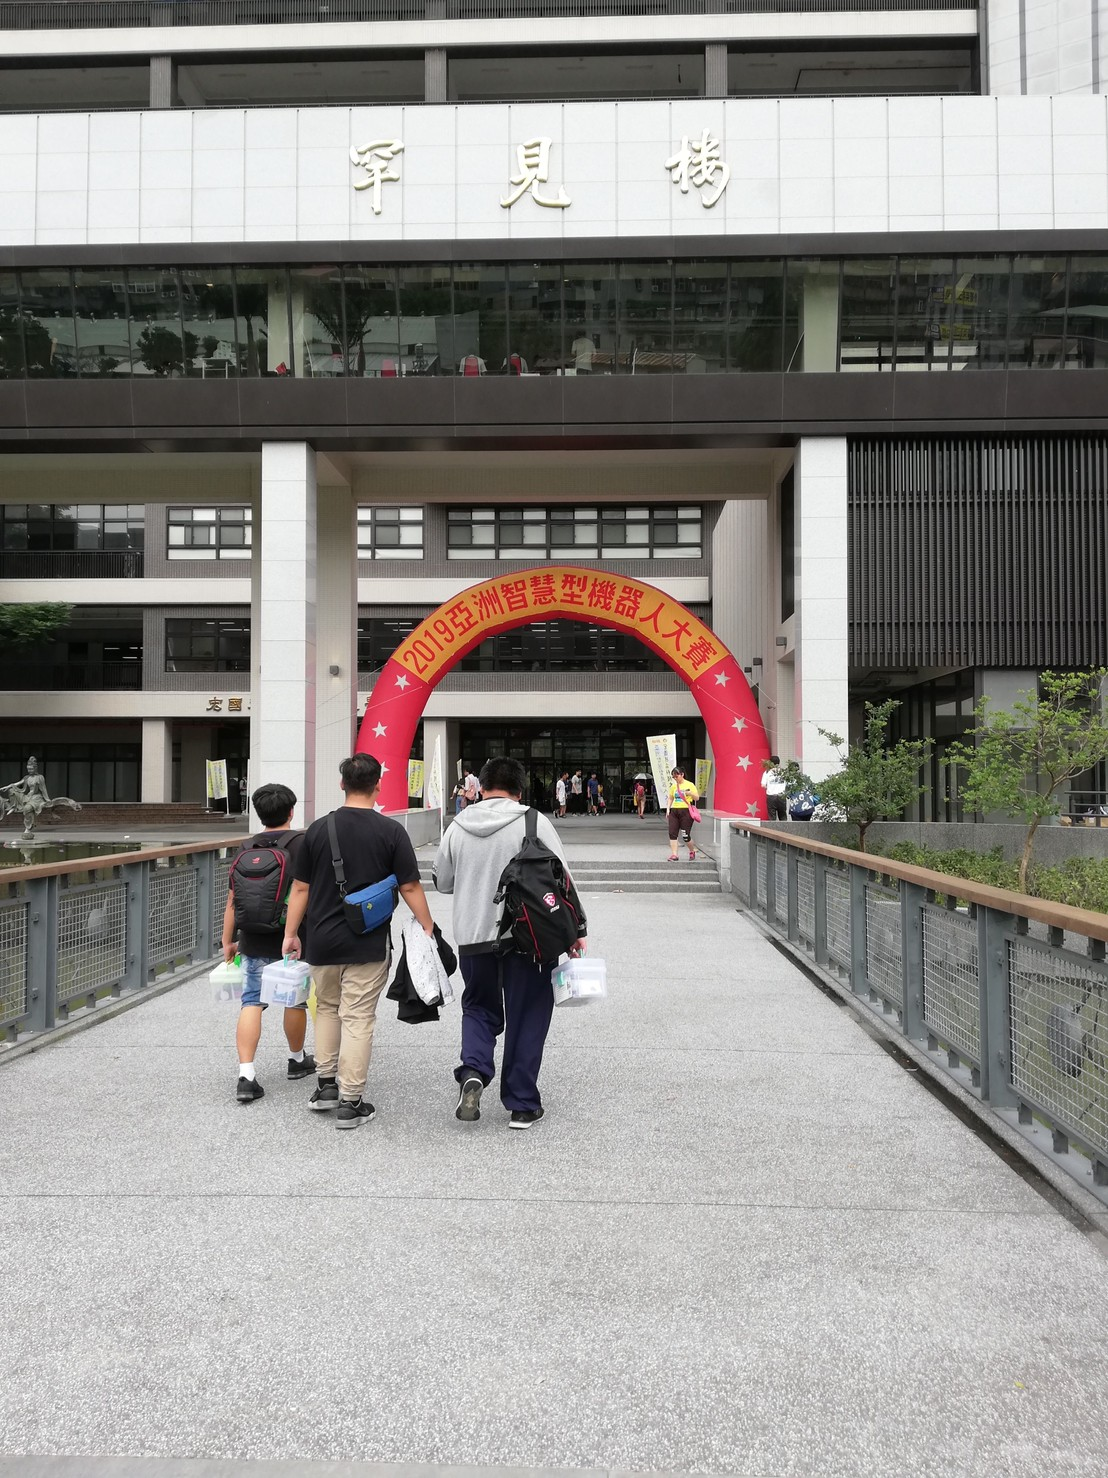people: (438, 752, 593, 1157), (295, 750, 400, 1128), (226, 778, 314, 1121), (657, 769, 712, 871), (552, 762, 583, 807)
